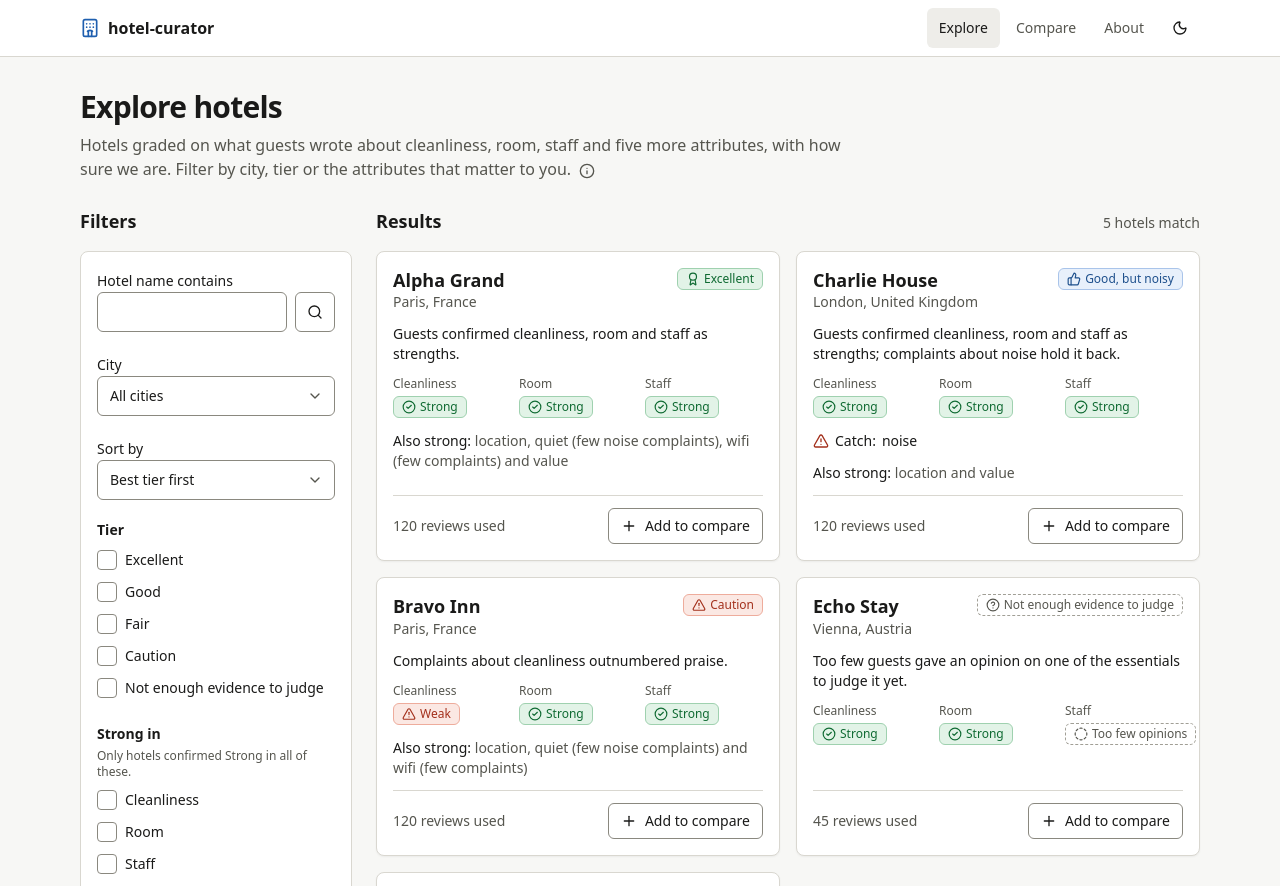
Scenario: Explorer page › maps "Not enough evidence to judge" to both underlying tiers
This screenshot has width=1280, height=886.
expect the element "Alpha Grand" is shown: met, box [377,252,779,560]
Click the 5th checkbox named "Not enough evidence to judge" at coordinates (107, 688), box [97,678,117,698]
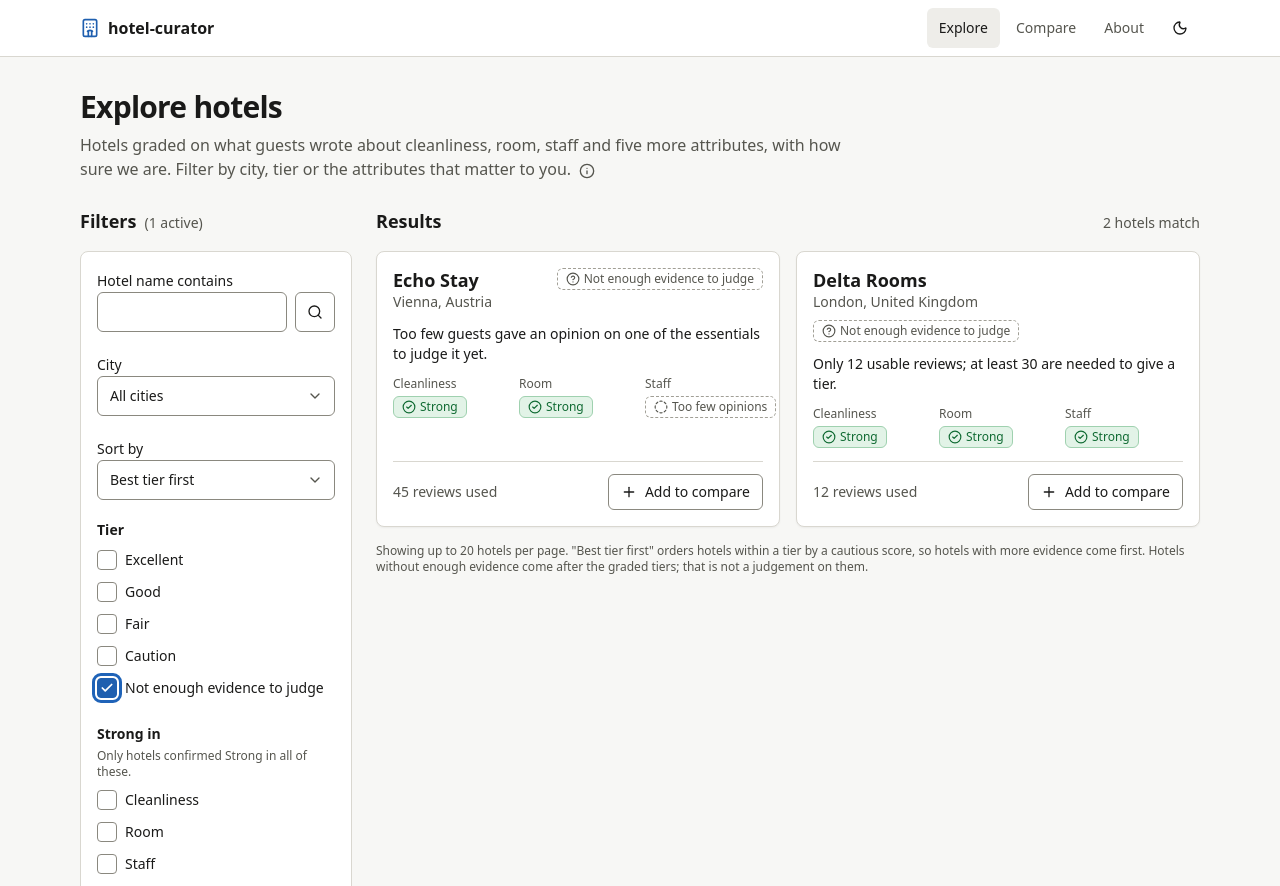
expect the heading "Filters(1 active)" is shown: met, box [80,207,203,235]
